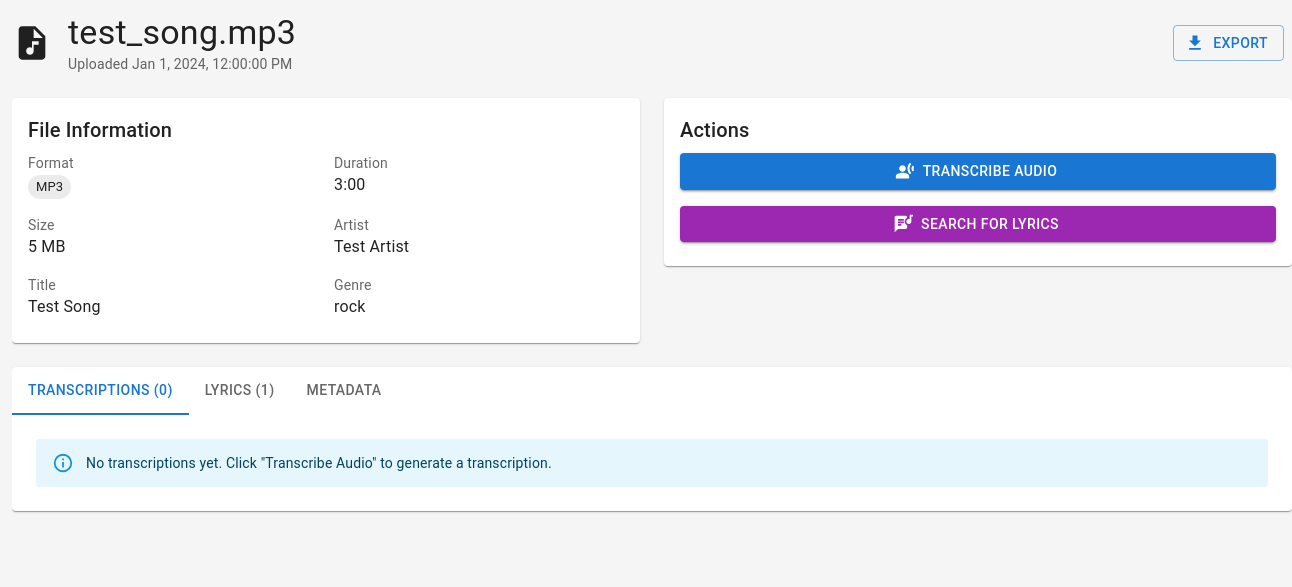
FileDetails Component › displays lyrics
// Switch to lyrics tab
Click the tab "Lyrics (1)": click(240, 391) [189,367,291,415]
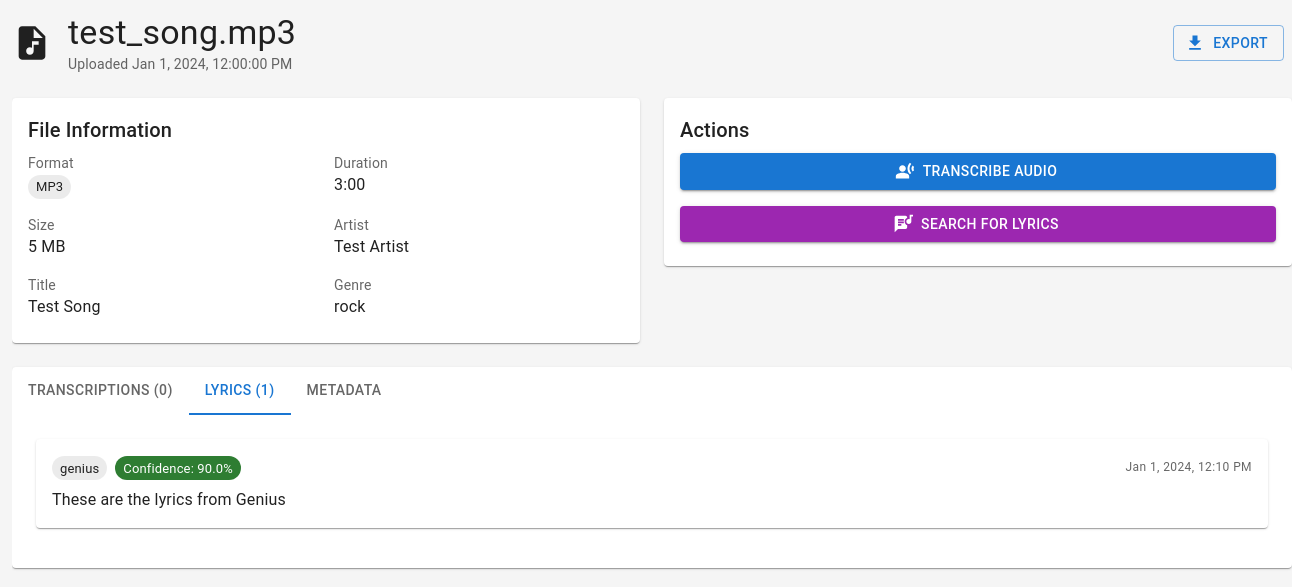
Check: the text "These are the lyrics from Genius" is shown, box [52,490,286,509]
Check: the text "genius" is shown, box [60,460,99,476]
Check: the text "Confidence: 90.0%" is shown, box [115,458,241,478]
